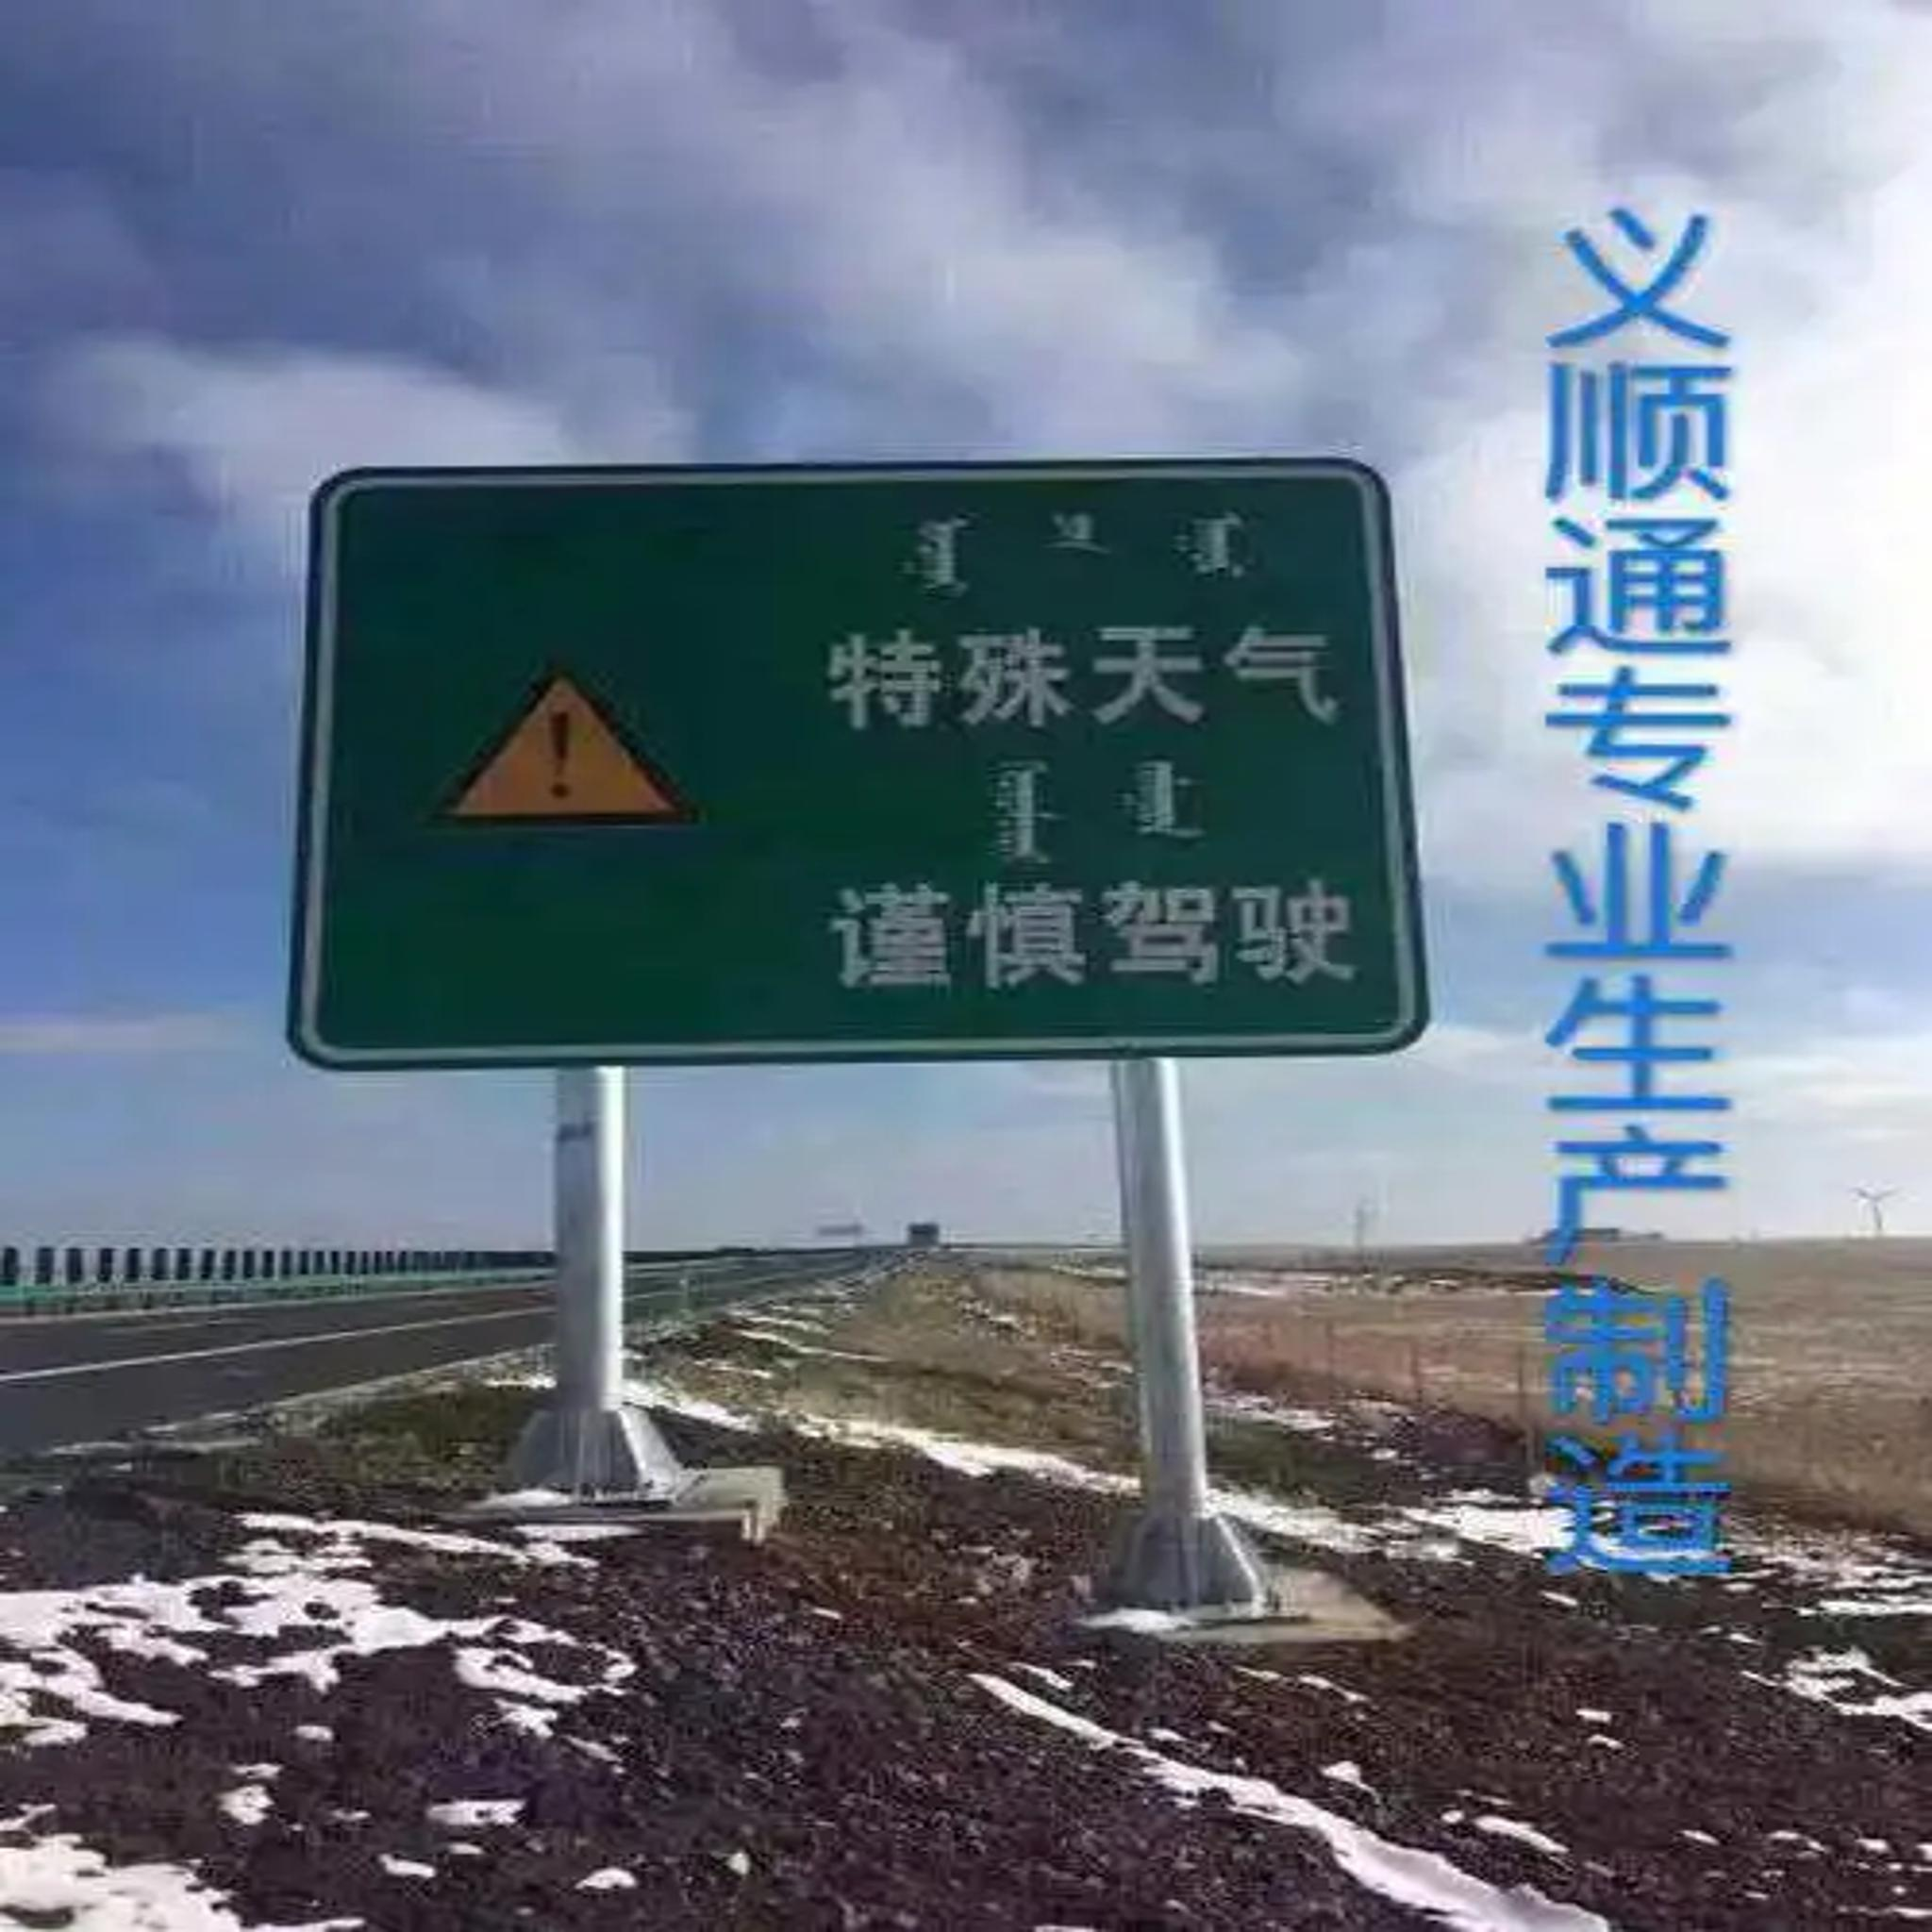w63: (441, 662, 699, 830)
